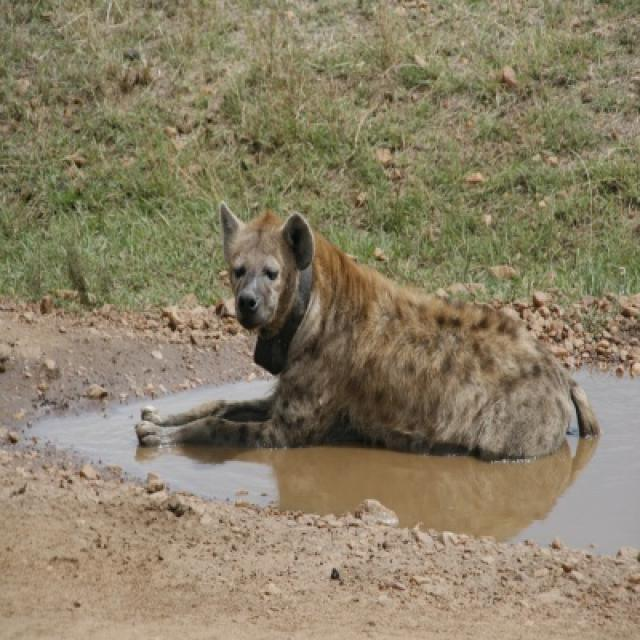hyena: (101, 205, 598, 466)
